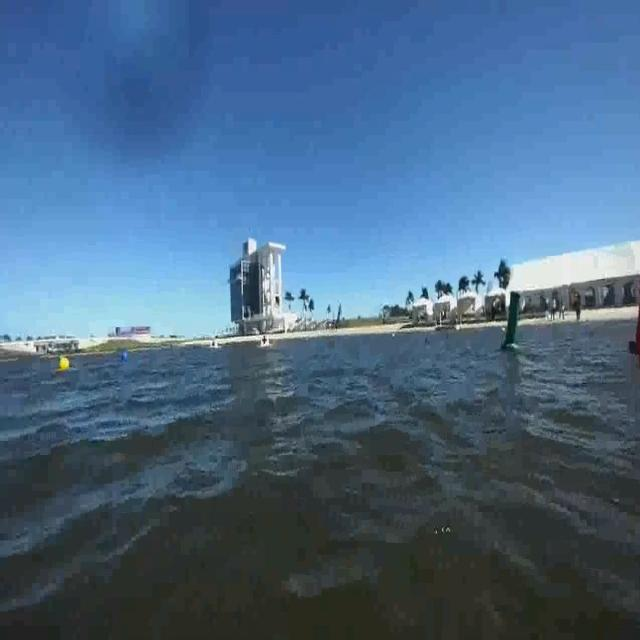blue-buoy: (120, 352, 129, 362)
green-column-buoy: (500, 292, 522, 354)
red-column-buoy: (630, 268, 640, 354)
yellow-buoy: (59, 355, 71, 373)
